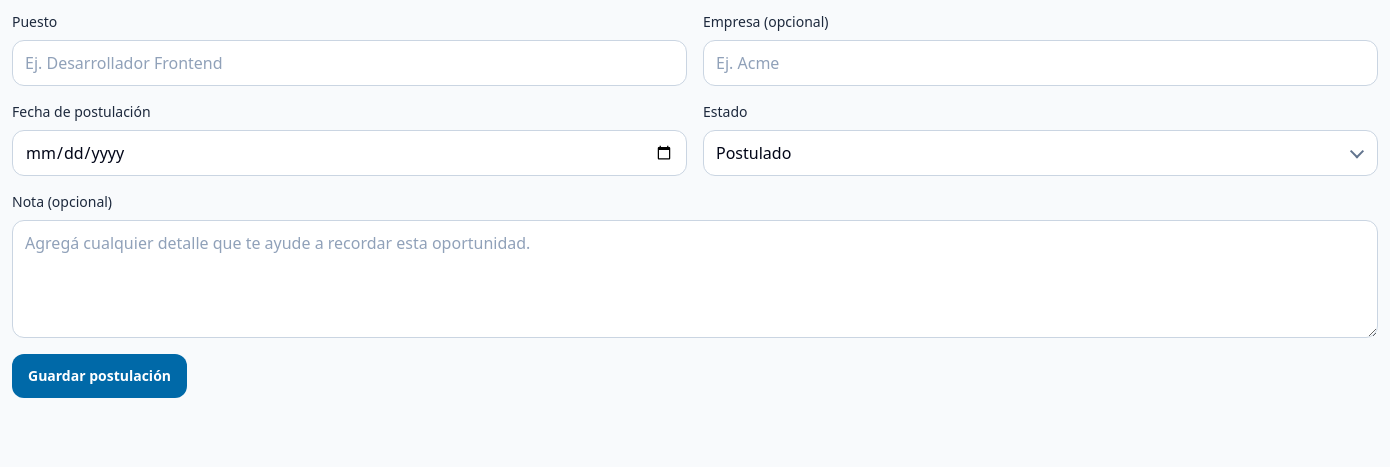
Scenario: ApplicationForm › communicates persistence failures in Spanish without reporting success
Type "Desarrollador Frontend" into the field labelled "Puesto" at (350, 63), box [12,40,687,86]
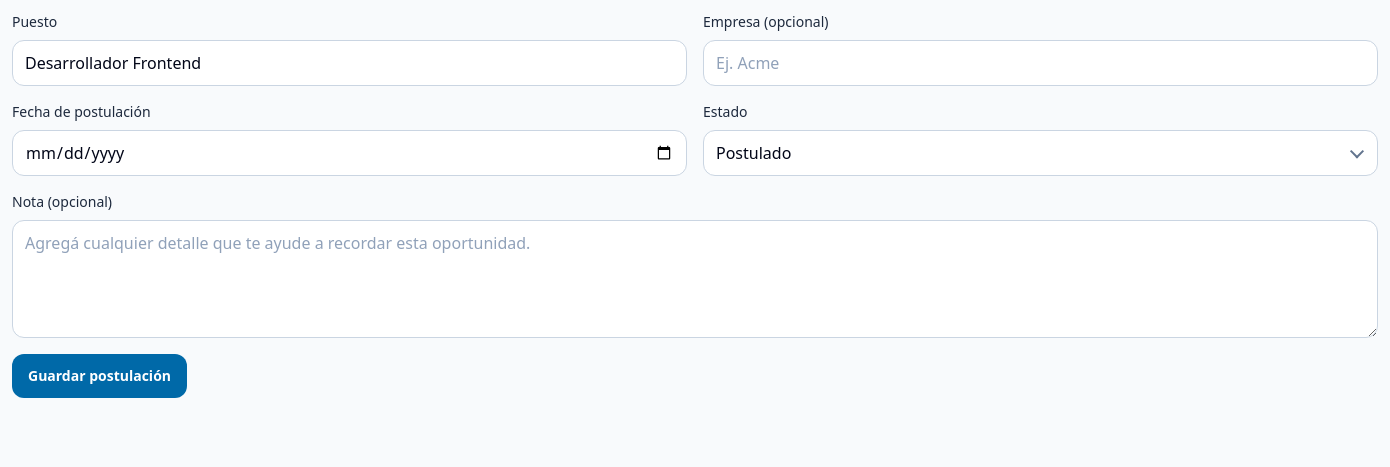
Type "2026-10-20" into the date field labelled "Fecha de postulación" at (350, 153), box [12,130,687,176]
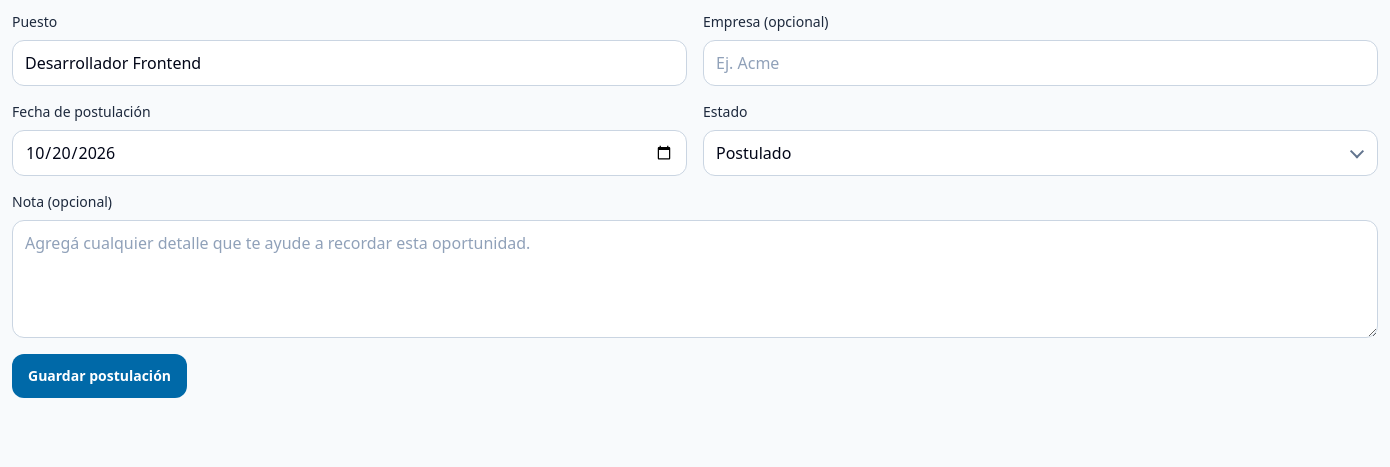
Click the button "Guardar postulación" at (100, 376), box [12,354,187,398]
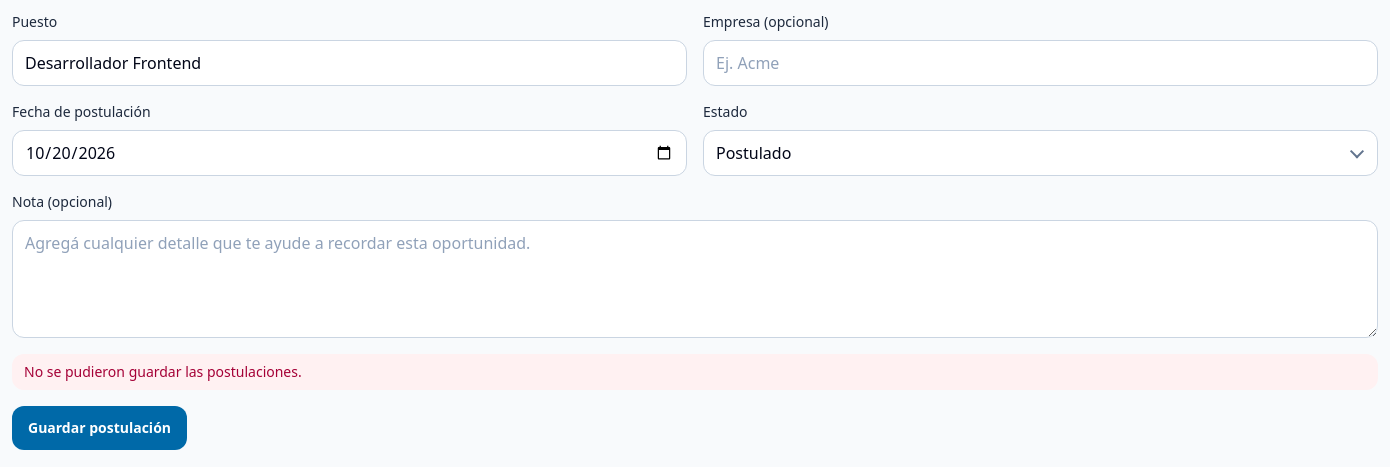
expect the text "No se pudieron guardar las postulaciones." is shown: met, box [12,354,1378,390]
